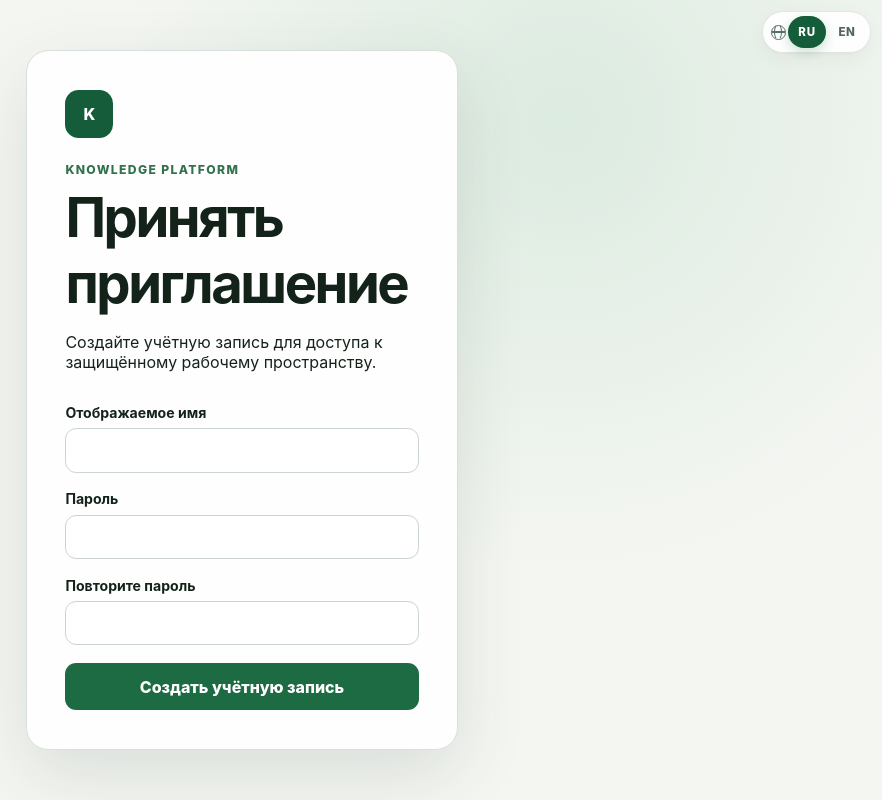
Test: authentication and route guards › accepts an invitation through the public route without exposing the token in the page
Later steps or results of the test are not shown.
Click the button with aria-label "English": (847, 32) x1=828 y1=16 x2=866 y2=48
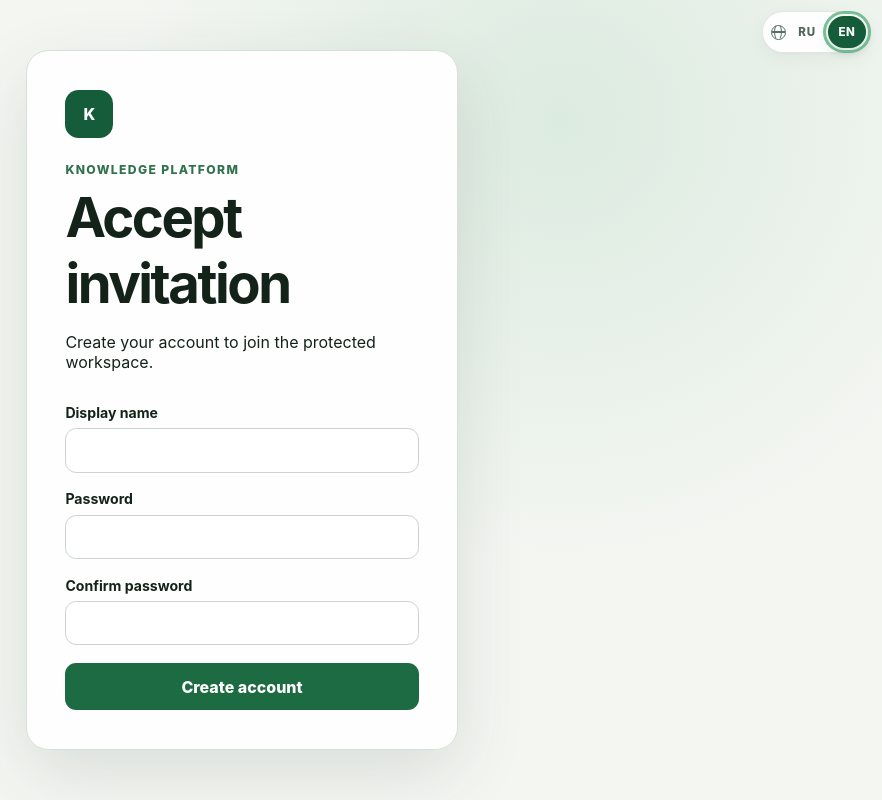
Check: the heading "Accept invitation" is shown, box x1=65 y1=184 x2=290 y2=316
